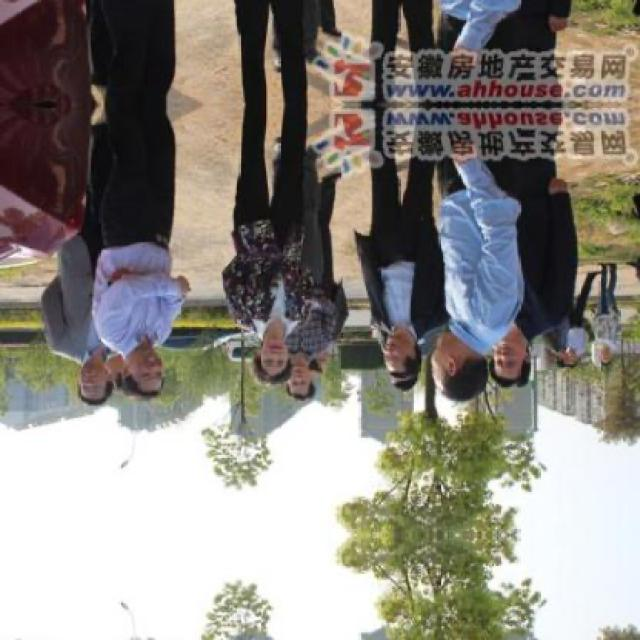sin casco: (466, 332, 549, 426), (412, 335, 480, 422), (278, 344, 338, 429), (64, 346, 122, 419), (354, 326, 416, 389), (237, 326, 285, 402), (120, 325, 160, 412)
